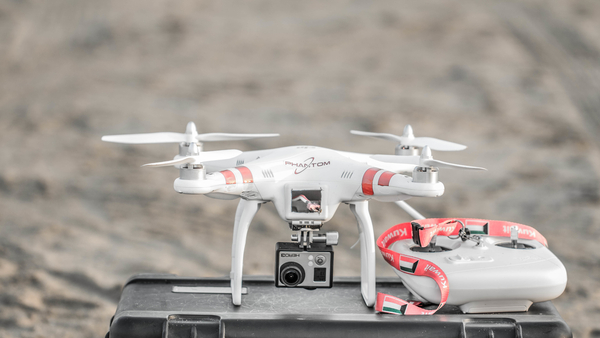drone: (96, 120, 489, 312)
